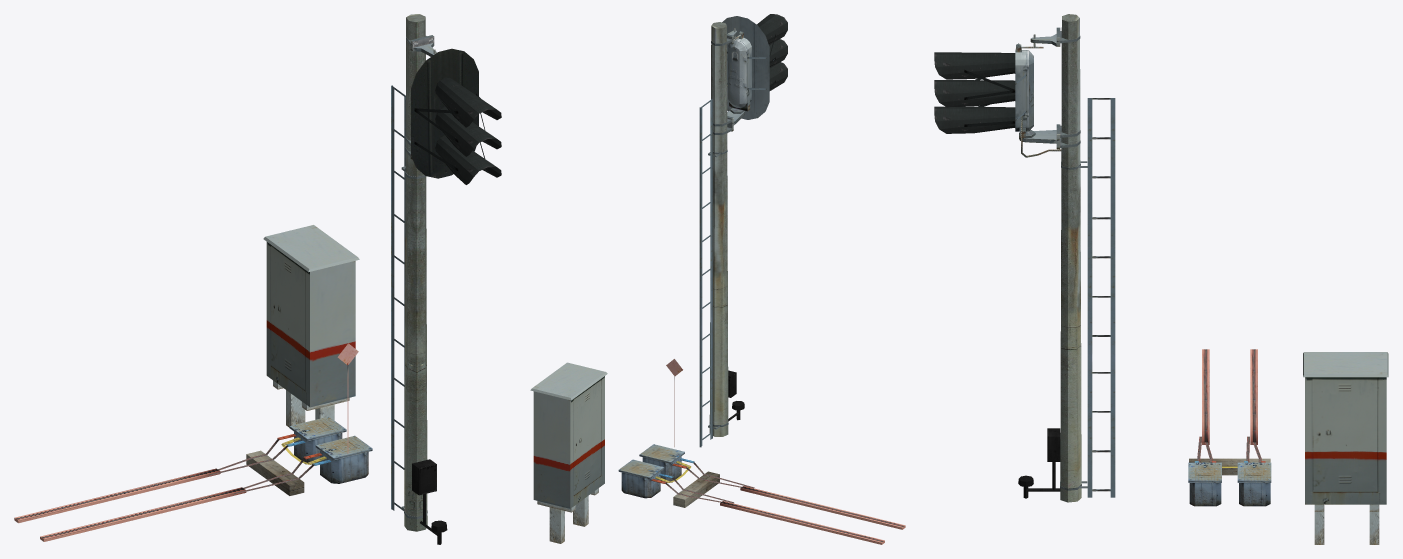
File: signal_line.gltf
3 renders of one model, left to right at view 1: azimuth 30°, elevation 25°; view 2: azimuth 150°, elevation 25°; view 3: azimuth 270°, elevation 25°, orthographic. The views are drawn at different scales.
Bounding box in the file's own units: 4.6 × 6.36 × 5.19.
1 material, 1 textured.
